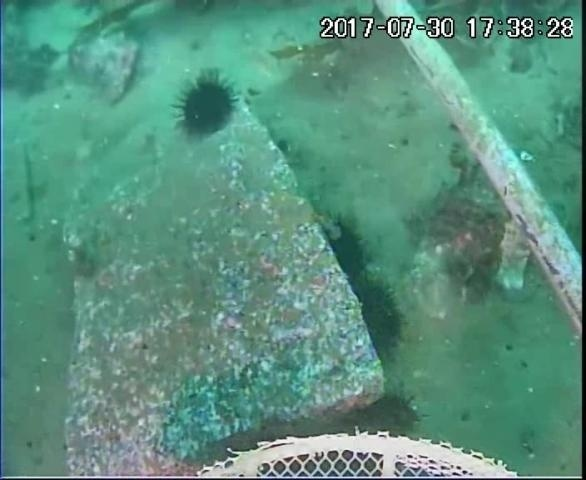echinus: (349, 276, 409, 363), (170, 71, 241, 142), (347, 387, 426, 441), (318, 217, 374, 290)
